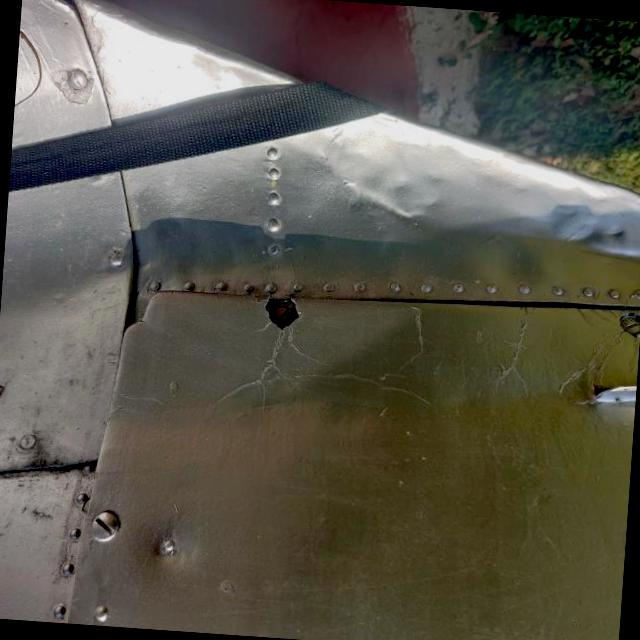crack: (197, 279, 331, 421)
